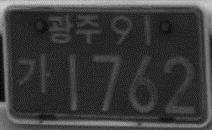1: (66, 50, 79, 114), (139, 11, 153, 47)
2: (163, 53, 199, 117)
6: (127, 53, 160, 114)
7: (92, 52, 123, 112)
9: (110, 13, 135, 45)
가: (16, 52, 51, 94)
광주_O: (47, 11, 103, 45)
